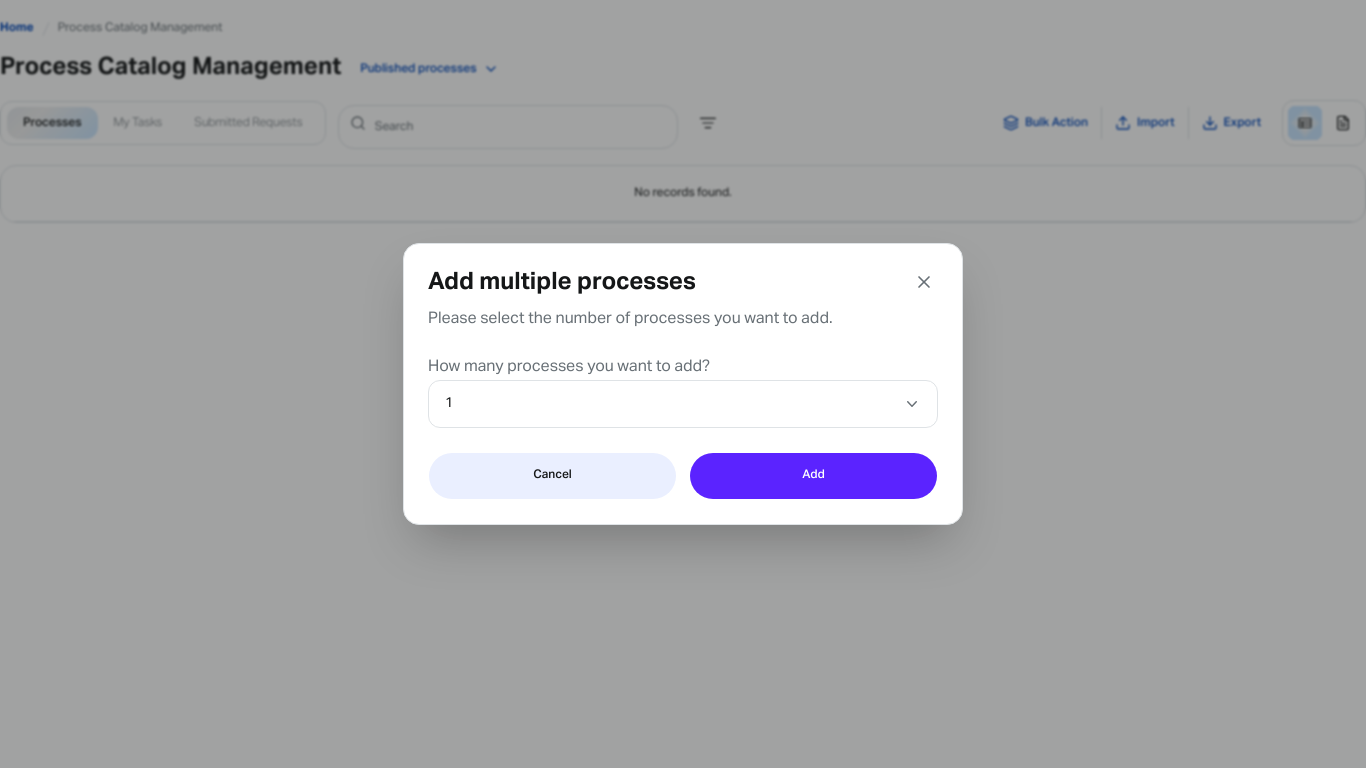
it: CatalogModule › closes the modal when the Close (X) button is clicked
This screenshot has width=1366, height=768.
Click the button named "close" at coordinates (924, 282), box [910,268,938,296]
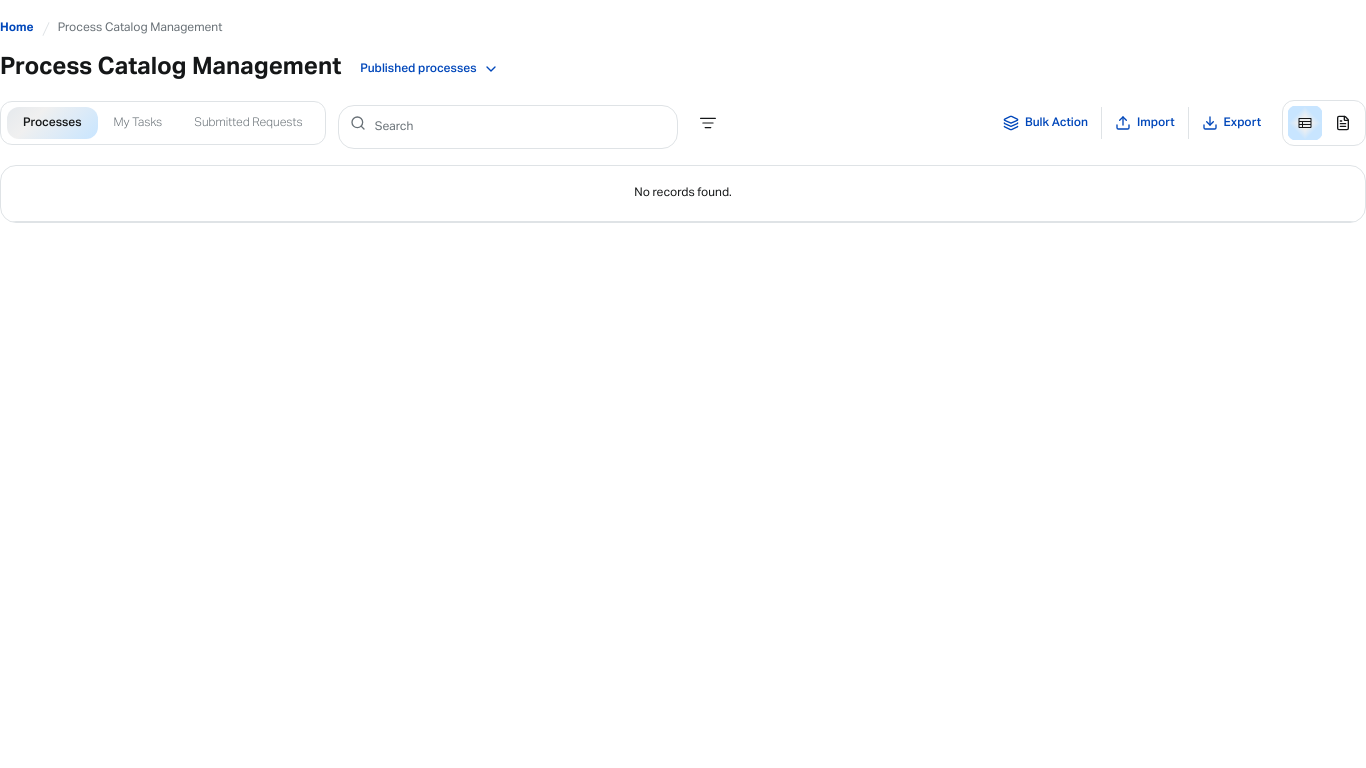
Check: the heading "Add multiple processes" is gone
